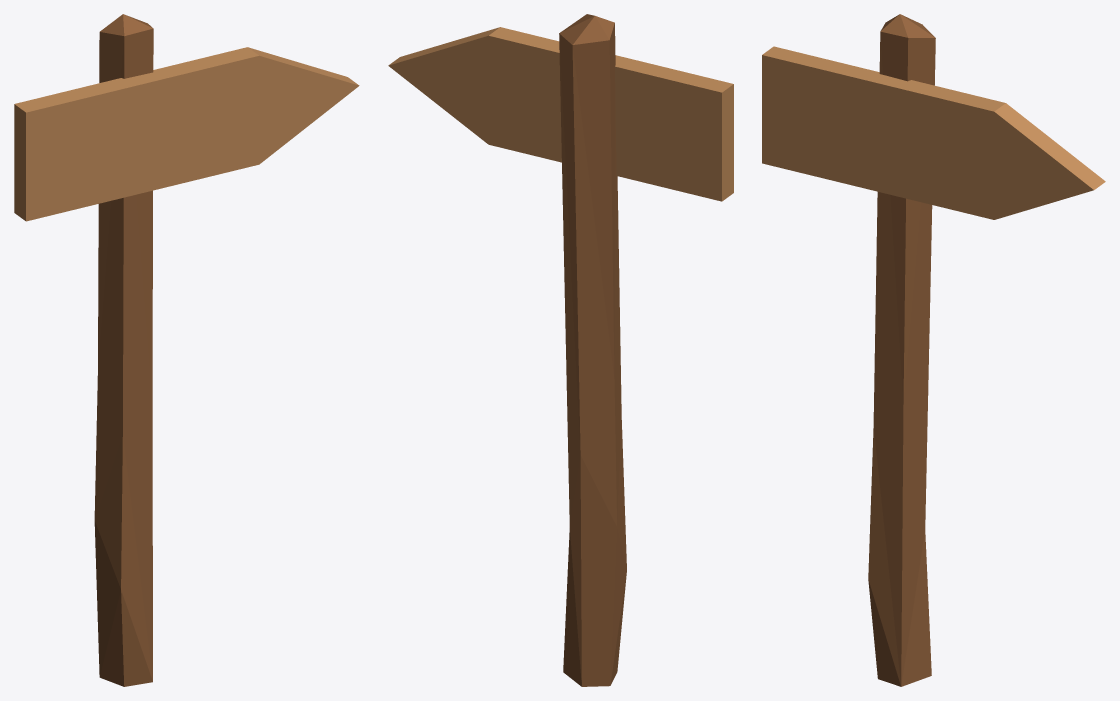
File: Pointer_02.fbx
3 views of the same model, side by side, from view 1: azimuth 30°, elevation 25°; view 2: azimuth 150°, elevation 25°; view 3: azimuth 330°, elevation 25° (orthographic).
Parts seen in each view (by area): view 1: Pointer_02; view 2: Pointer_02; view 3: Pointer_02.
Boxes of the visible parts, <box> form: Pointer_02: <box>14,14,359,686</box>; Pointer_02: <box>388,14,733,686</box>; Pointer_02: <box>762,14,1105,686</box>.
Size of the model in its own units: 89.61 by 170 by 16.8.
